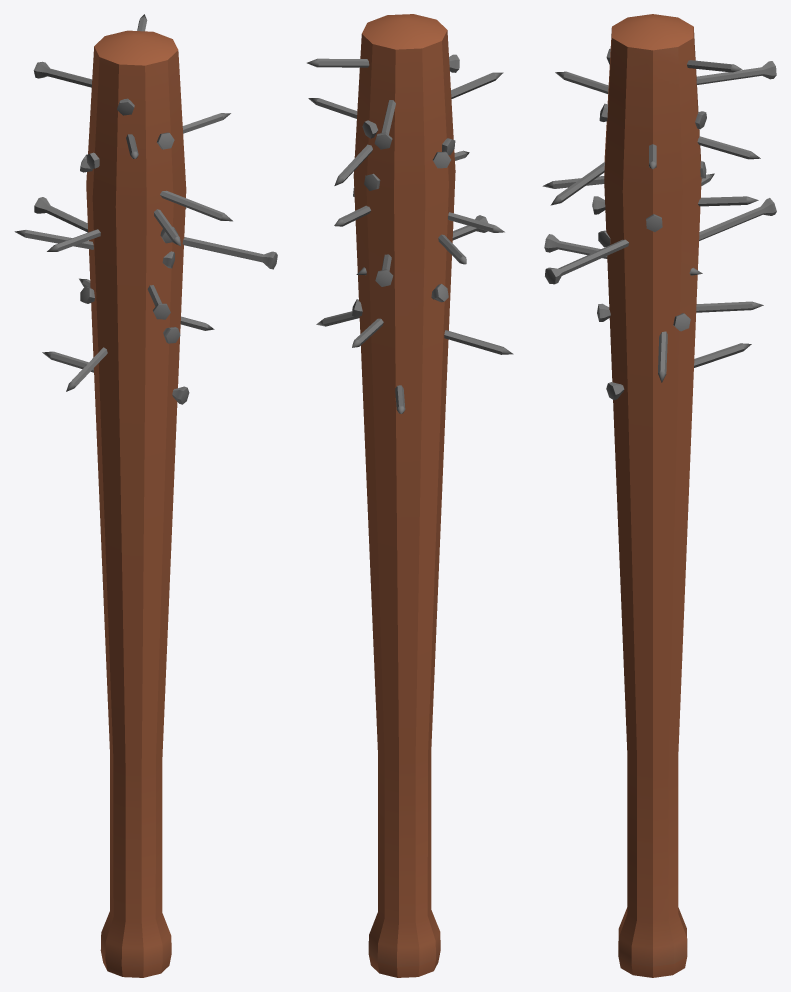
The model's file is Model_BaseballBat.fbx.
3 renders of one model, left to right at view 1: azimuth 30°, elevation 25°; view 2: azimuth 150°, elevation 25°; view 3: azimuth 270°, elevation 25°, orthographic.
Parts seen in each view (by area): view 1: Bat; view 2: Bat; view 3: Bat.
Part boxes in pixels (x1=…): Bat: x1=14, y1=14, x2=277, y2=977; Bat: x1=307, y1=14, x2=513, y2=977; Bat: x1=542, y1=14, x2=776, y2=977.
Size of the model in its own units: 3.59 by 16.79 by 3.79.
Materials: 1 (1 with a texture image).
